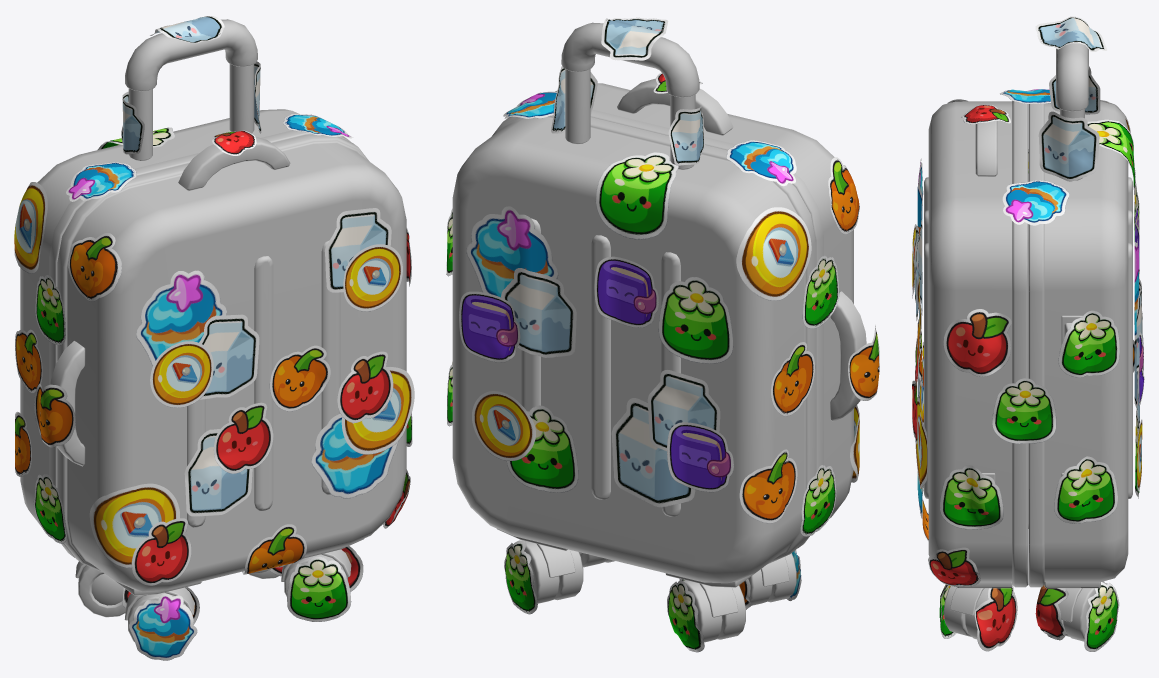
Rendered from Level_3_World.fbx.
The picture shows the model from 3 angles, left to right: view 1: azimuth 30°, elevation 25°; view 2: azimuth 150°, elevation 25°; view 3: azimuth 270°, elevation 25°; orthographic projection. The views are drawn at different scales.
Parts seen in each view (by area): view 1: HoldableObject_4, HoldableObject_3, HoldableObject_10, Sticker_1, Sticker_13, Sticker_0, Sticker_11, Sticker_10, Sticker_47, Sticker_22, Sticker_44, Sticker_23 (+22 smaller); view 2: HoldableObject_3, HoldableObject_4, HoldableObject_10, Sticker_8, Sticker_14, Sticker_6, Sticker_2, Sticker_3, Sticker_5, Sticker_7, Sticker_20, Sticker_18 (+19 smaller); view 3: HoldableObject_4, HoldableObject_3, Sticker_35, Sticker_39, Sticker_16, Sticker_37, Sticker_38, Sticker_36, Sticker_42, HoldableObject_10, Sticker_48, Sticker_46 (+16 smaller).
Part boxes in pixels (x1,y1,x2,y2): HoldableObject_4: [50, 134, 406, 595]; HoldableObject_3: [20, 109, 350, 557]; HoldableObject_10: [125, 19, 257, 160]; Sticker_1: [136, 270, 226, 365]; Sticker_13: [89, 483, 179, 567]; Sticker_0: [311, 413, 398, 498]; Sticker_11: [199, 314, 259, 399]; Sticker_10: [184, 429, 252, 516]; Sticker_47: [287, 556, 351, 621]; Sticker_22: [150, 341, 213, 407]; Sticker_44: [128, 593, 197, 660]; Sticker_23: [343, 244, 402, 311]; HoldableObject_3: [452, 115, 815, 587]; HoldableObject_4: [555, 78, 866, 548]; HoldableObject_10: [561, 22, 699, 169]; Sticker_8: [595, 152, 678, 239]; Sticker_14: [736, 207, 811, 300]; Sticker_6: [658, 277, 733, 363]; Sticker_2: [466, 206, 558, 297]; Sticker_3: [611, 398, 695, 507]; Sticker_5: [501, 268, 576, 357]; Sticker_7: [506, 405, 578, 492]; Sticker_20: [667, 422, 733, 492]; Sticker_18: [594, 256, 658, 327]; HoldableObject_4: [924, 101, 1028, 588]; HoldableObject_3: [1028, 101, 1132, 588]; Sticker_35: [943, 309, 1011, 376]; Sticker_39: [992, 378, 1056, 443]; Sticker_16: [1038, 111, 1099, 181]; Sticker_37: [1054, 456, 1117, 523]; Sticker_38: [940, 465, 1003, 529]; Sticker_36: [1058, 310, 1119, 377]; Sticker_42: [1002, 180, 1069, 225]; HoldableObject_10: [1056, 43, 1088, 180]; Sticker_48: [974, 585, 1017, 651]; Sticker_46: [1084, 582, 1119, 651].
Size of the model in its own units: 333 by 507 by 185.
